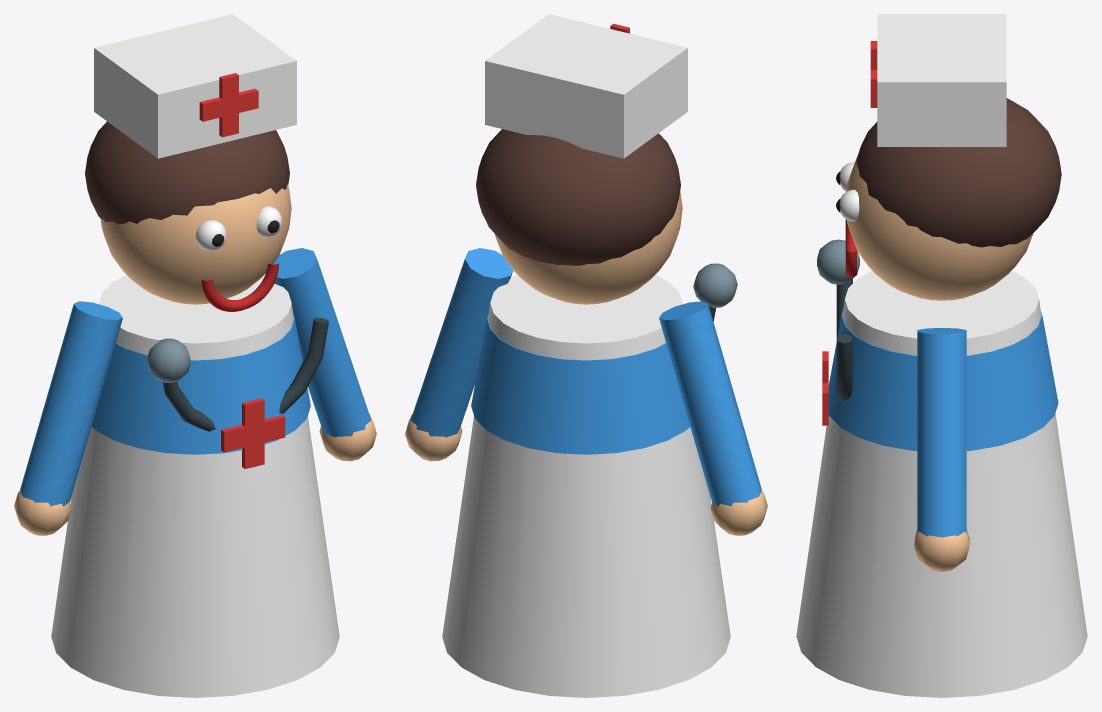
File: nurse.glb
The picture shows the model from 3 angles, left to right: view 1: azimuth 30°, elevation 25°; view 2: azimuth 150°, elevation 25°; view 3: azimuth 270°, elevation 25°; orthographic projection.
Visible parts, largest first — view 1: nurse; view 2: nurse; view 3: nurse.
Part boxes in pixels (x1,y1,x2,y2): nurse: (14, 14, 376, 697); nurse: (405, 14, 767, 697); nurse: (796, 14, 1087, 697).
Bounding box in the file's own units: 1.28 × 2.01 × 0.9.
